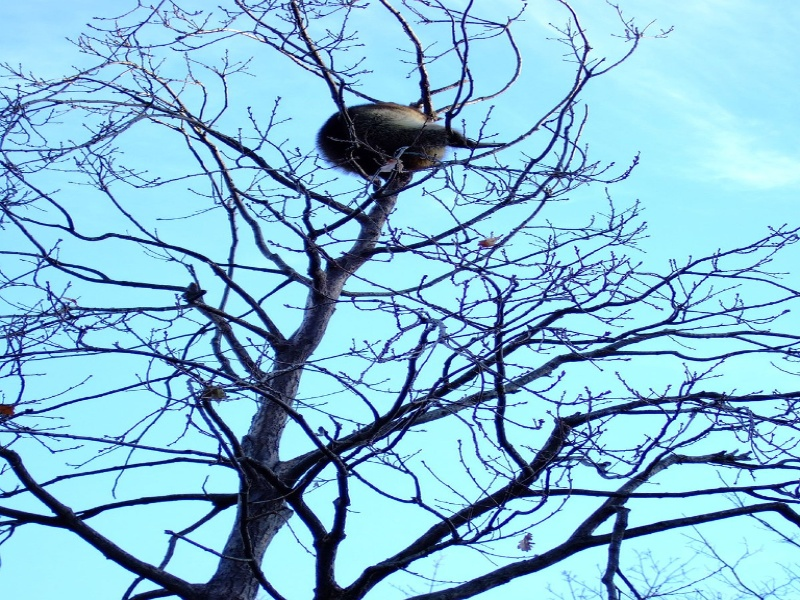raccoon: (310, 101, 503, 178)
